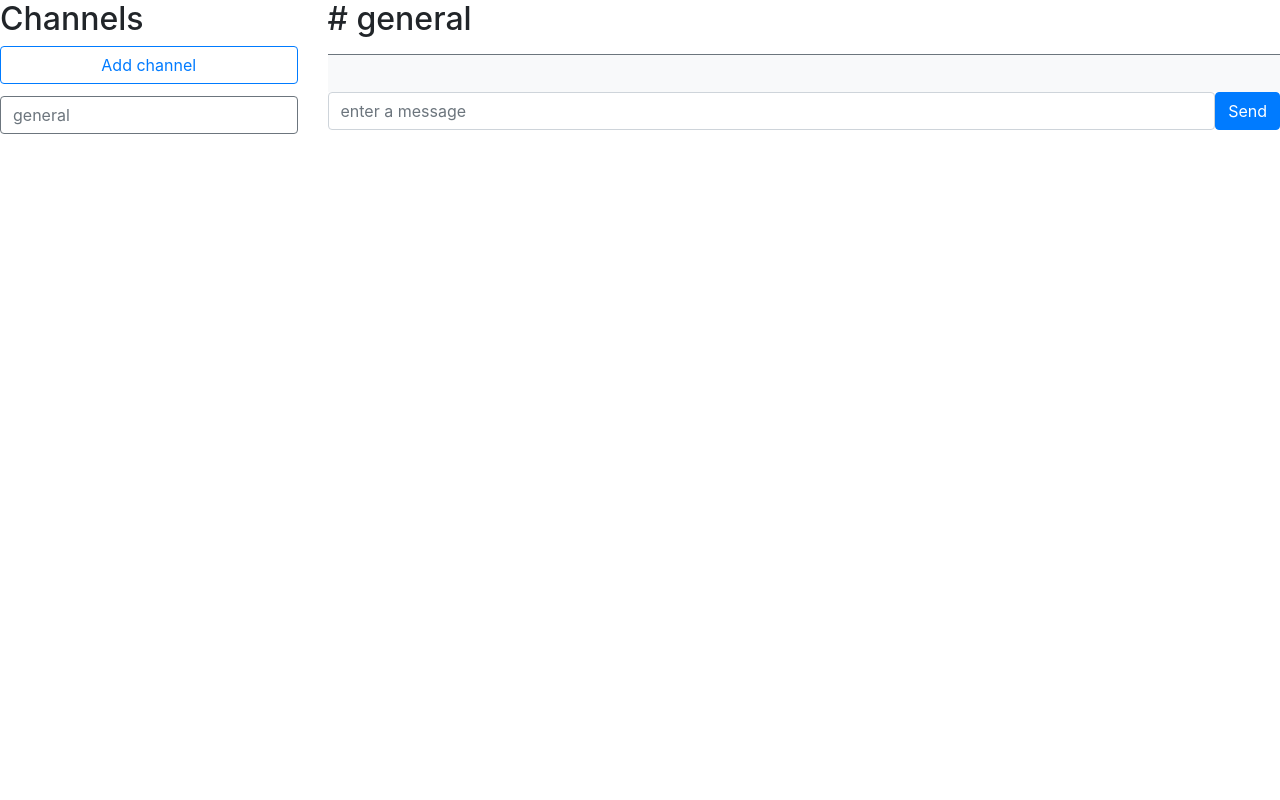
Scenario: test channels › add channels › app should have no way to add two channels with the same name
Step 1. Click the button "Add channel" → {"x": 149, "y": 65}, box x1=0 y1=46 x2=298 y2=84
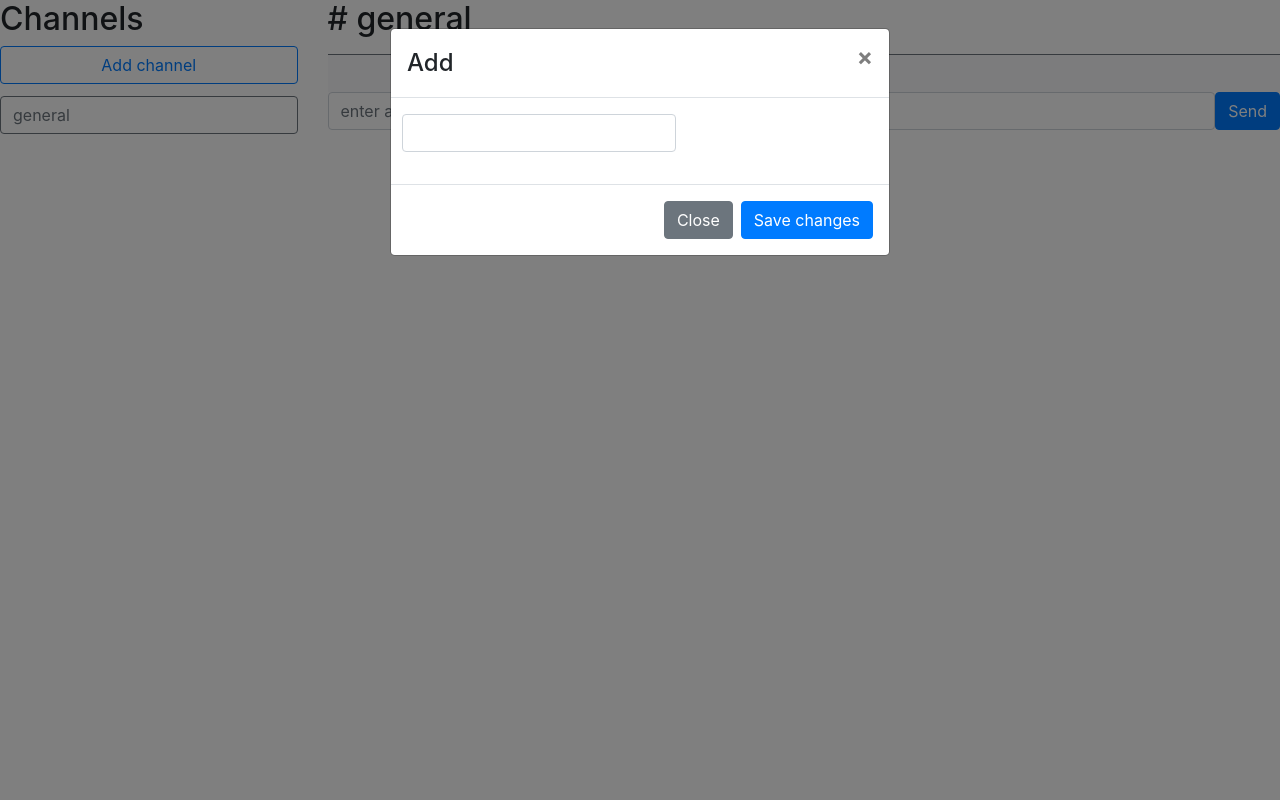
Step 2. Type "general" into the field → {"x": 539, "y": 133}, box x1=402 y1=114 x2=676 y2=152
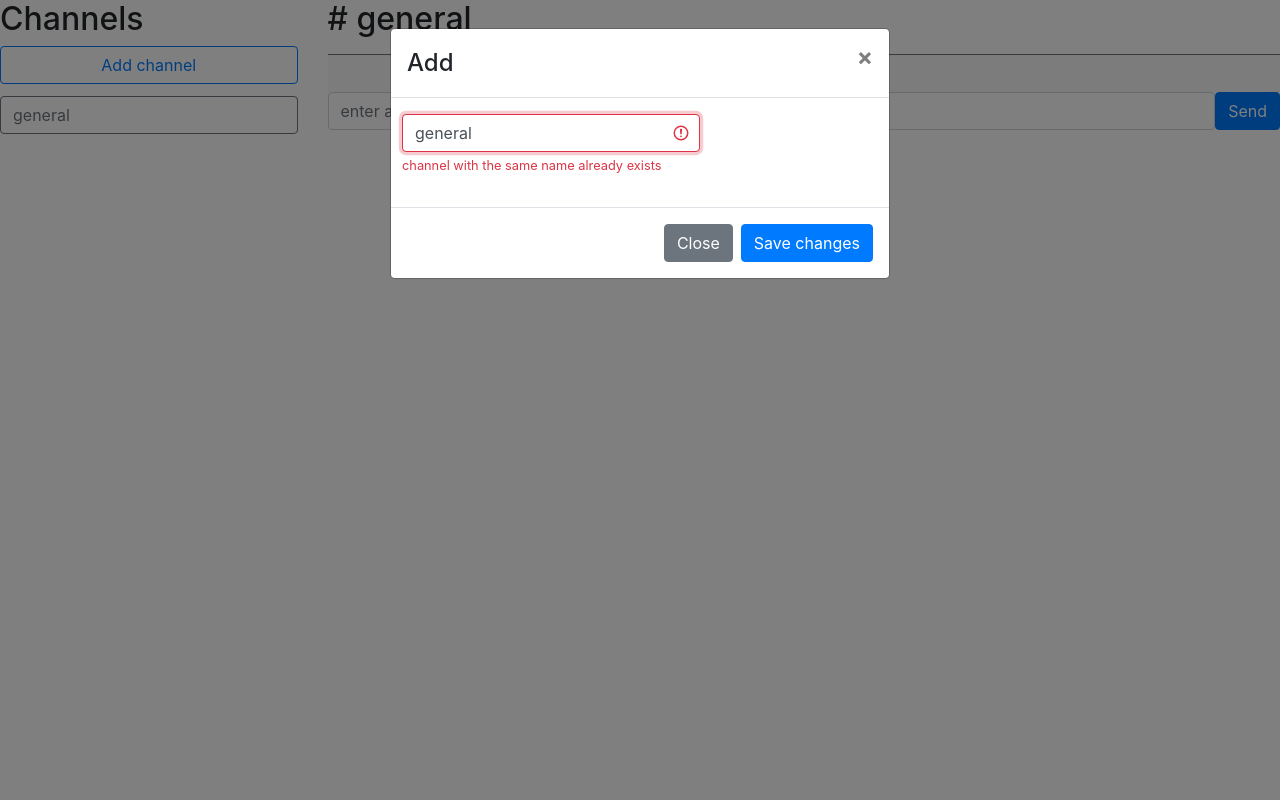
Now the text "channel with the same name already exists" is shown, box x1=402 y1=156 x2=700 y2=175
